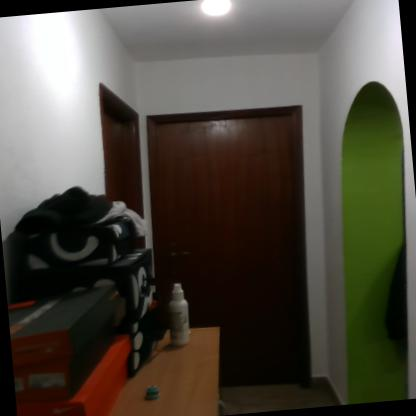closed: (133, 87, 334, 402)
